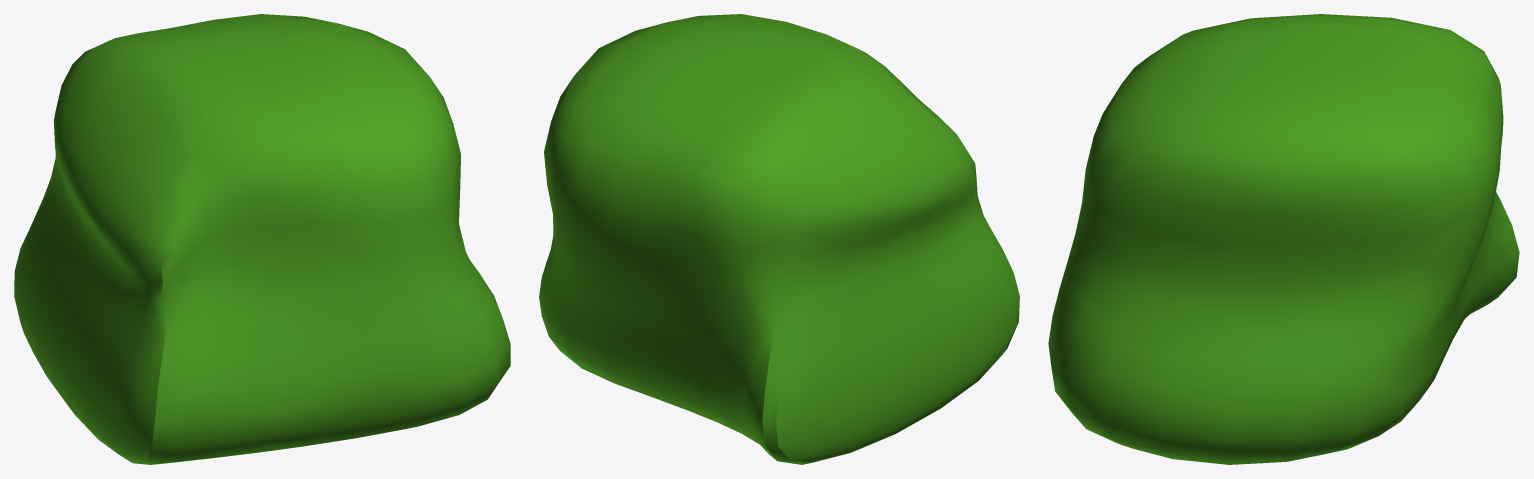
The model's file is Bush 4.fbx.
3 renders of one model, left to right at view 1: azimuth 30°, elevation 25°; view 2: azimuth 150°, elevation 25°; view 3: azimuth 270°, elevation 25°, orthographic. The views are drawn at different scales.
Parts seen in each view (by area): view 1: Cube; view 2: Cube; view 3: Cube.
Boxes of the visible parts, x1,y1,x2,y2 form: Cube: [14, 14, 510, 464]; Cube: [539, 14, 1019, 464]; Cube: [1048, 14, 1519, 464].
Bounding box in the file's own units: 254 × 207 × 257.
